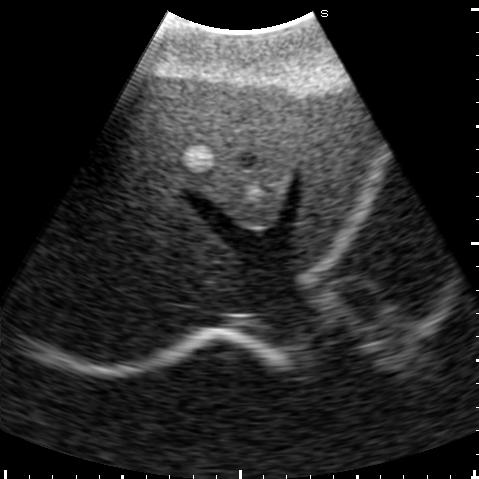S2: (292, 95, 376, 266)
S4: (127, 78, 307, 227)
S7: (41, 254, 179, 362)
S8: (86, 152, 236, 288)
Tumor: (180, 147, 215, 173)
